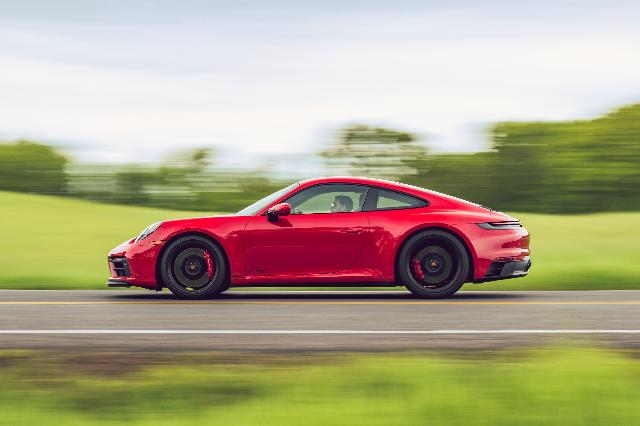porsche: (105, 177, 532, 299)
